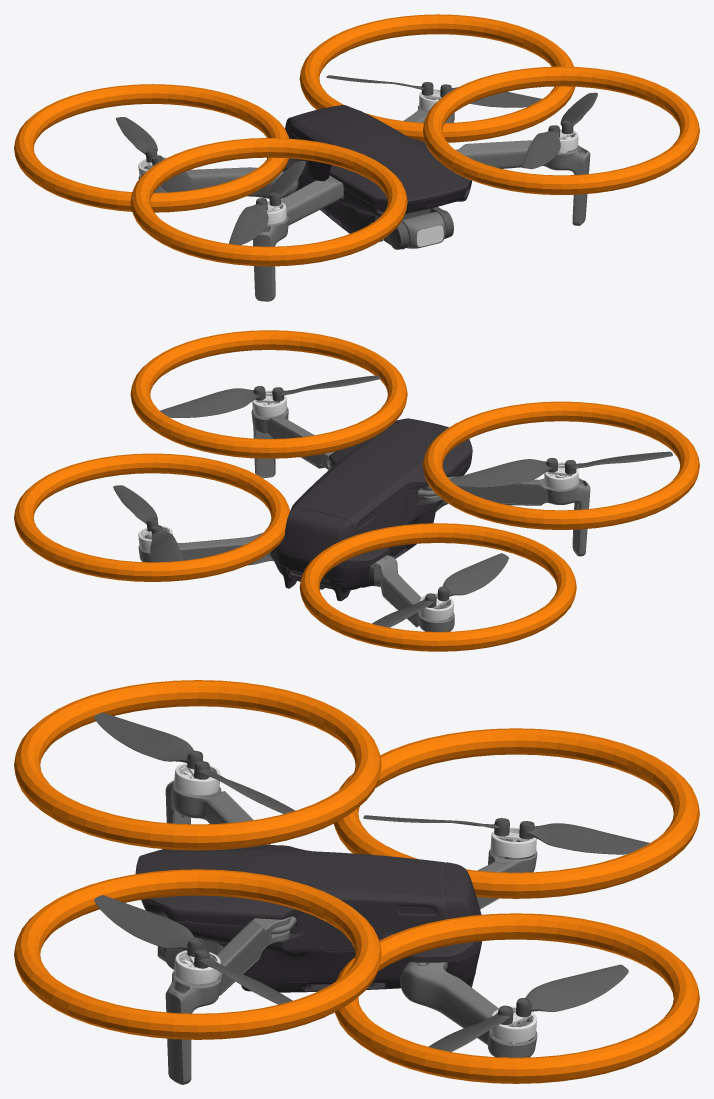
File: DJI_Mavic_orange.glb
The picture shows the model from 3 angles, top to bottom: view 1: azimuth 30°, elevation 25°; view 2: azimuth 150°, elevation 25°; view 3: azimuth 270°, elevation 25°; orthographic projection. The views are drawn at different scales.
Parts seen in each view (by area): view 1: Torus.001, Torus.002, Torus.003, Body, Torus, Front Right arm, Front Left arm, Rear Right arm, dji_mini_2_open.015, dji_mini_2_open.016, dji_mini_2_open.027, Camera gimbal (+7 smaller); view 2: Body, Torus.001, Torus.003, Torus.002, Torus, Front Right arm, Rear Right arm, dji_mini_2_open.019, Front Left arm, dji_mini_2_open.017, dji_mini_2_open.043, Rear Left arm (+8 smaller); view 3: Body, Torus.002, Torus.001, Torus, Torus.003, Front Left arm, Rear Left arm, dji_mini_2_open.079, dji_mini_2_open.016, dji_mini_2_open.015, dji_mini_2_open.042, Front Right arm (+9 smaller).
Boxes of the visible parts, x1,y1,x2,y2 form: Torus.001: (423,66,699,194); Torus.002: (130,138,407,266); Torus.003: (14,84,288,212); Body: (267,105,471,241); Torus: (299,14,575,142); Front Right arm: (253,175,343,301); Front Left arm: (455,140,590,225); Rear Right arm: (138,165,297,198); dji_mini_2_open.015: (229,198,268,245); dji_mini_2_open.016: (521,125,560,169); dji_mini_2_open.027: (440,84,541,107); Camera gimbal: (383,207,453,249); Body: (270,418,472,601); Torus.001: (130,330,407,458); Torus.003: (299,523,576,651); Torus.002: (423,401,699,529); Torus: (14,453,289,581); Front Right arm: (418,476,590,556); Rear Right arm: (371,555,454,631); dji_mini_2_open.019: (450,458,557,487); Front Left arm: (251,407,334,478); dji_mini_2_open.017: (160,386,265,417); dji_mini_2_open.043: (437,553,508,601); Rear Left arm: (138,532,273,565); Body: (135,845,482,992); Torus.002: (14,680,381,850); Torus.001: (14,869,381,1039); Torus: (335,913,699,1083); Torus.003: (334,728,699,898); Front Left arm: (165,916,296,1084); Rear Left arm: (400,961,537,1057); dji_mini_2_open.079: (516,964,628,1017); dji_mini_2_open.016: (94,895,203,956); dji_mini_2_open.015: (94,712,203,769); dji_mini_2_open.042: (519,821,649,854); Front Right arm: (165,780,270,844).
Bounding box in the file's own units: 0.3205 × 0.0573 × 0.2695.
